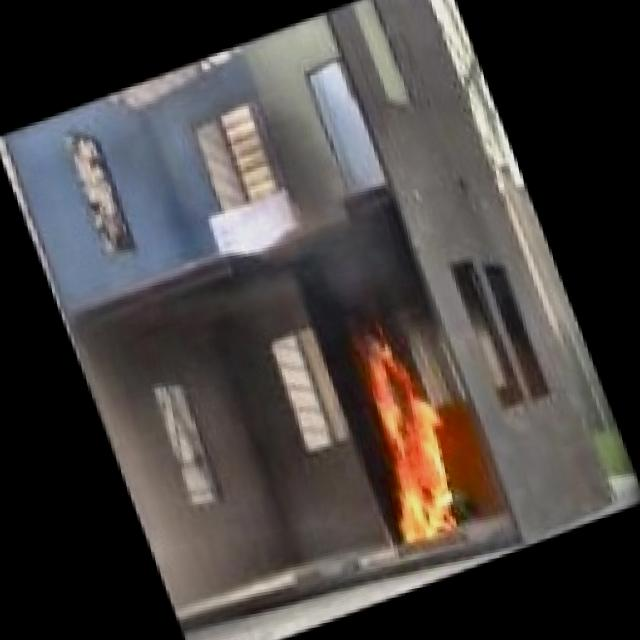fire: (324, 308, 506, 565)
